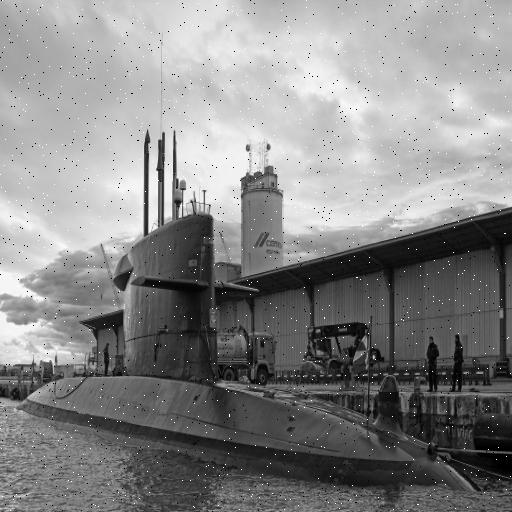submarine: (15, 127, 477, 494)
